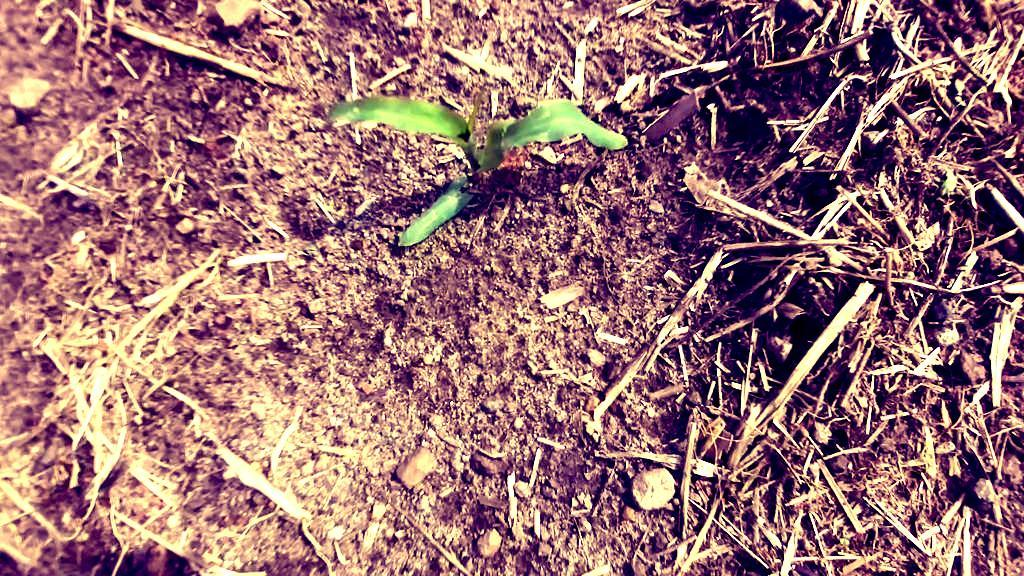BroWeed: (937, 167, 961, 200), (0, 104, 21, 129), (954, 78, 965, 105), (249, 459, 265, 477), (838, 537, 851, 546)
